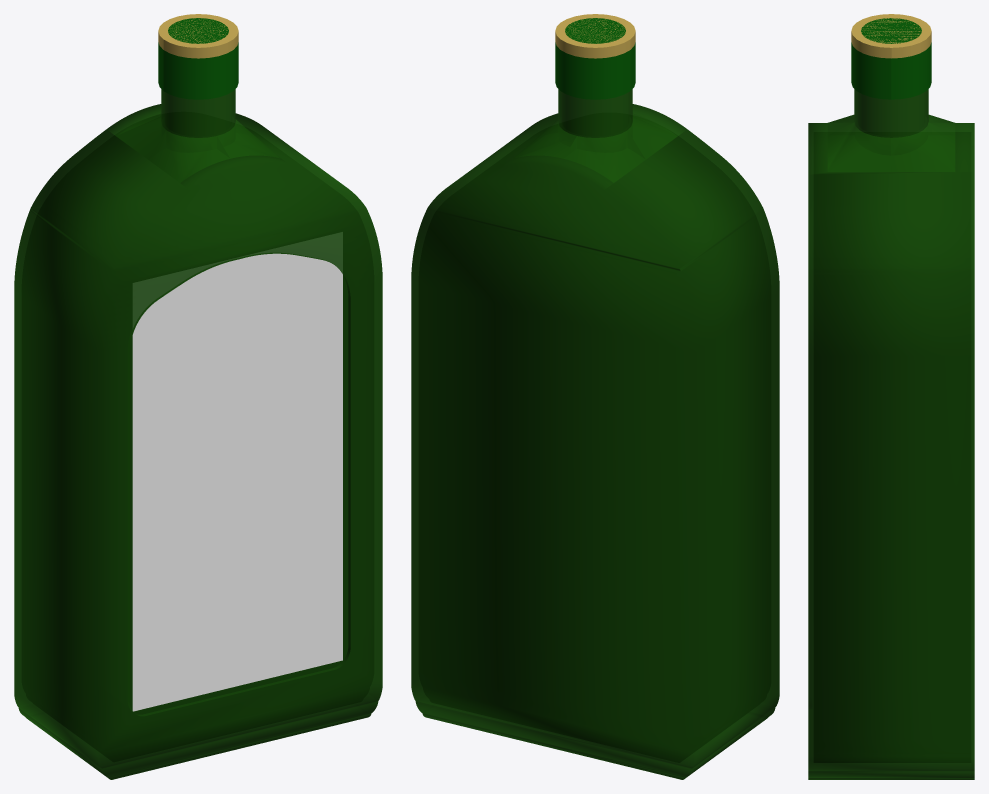
Rendered from item.dae.
The picture shows the model from 3 angles, left to right: view 1: azimuth 30°, elevation 25°; view 2: azimuth 150°, elevation 25°; view 3: azimuth 270°, elevation 25°; orthographic projection.
Parts seen in each view (by area): view 1: group_0 (×6), image_0; view 2: group_0 (×5); view 3: group_0 (×5).
Part boxes in pixels (bbox=[...]): group_0 (×6): bbox=[14, 14, 382, 779]; image_0: bbox=[132, 232, 342, 711]; group_0 (×5): bbox=[411, 14, 779, 779]; group_0 (×5): bbox=[808, 14, 974, 779].
Bounding box in the file's own units: 145 × 73.56 × 334.
